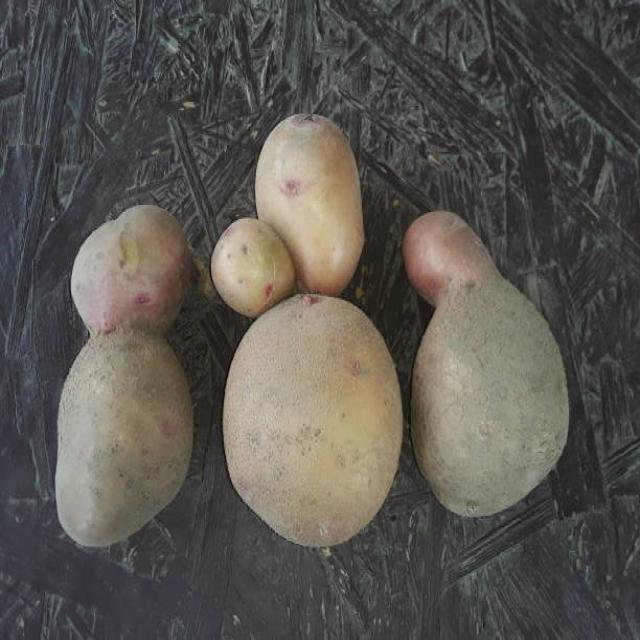Potato: (403, 212, 571, 521), (56, 206, 198, 550), (222, 292, 406, 552), (213, 115, 366, 318), (209, 219, 301, 321)
